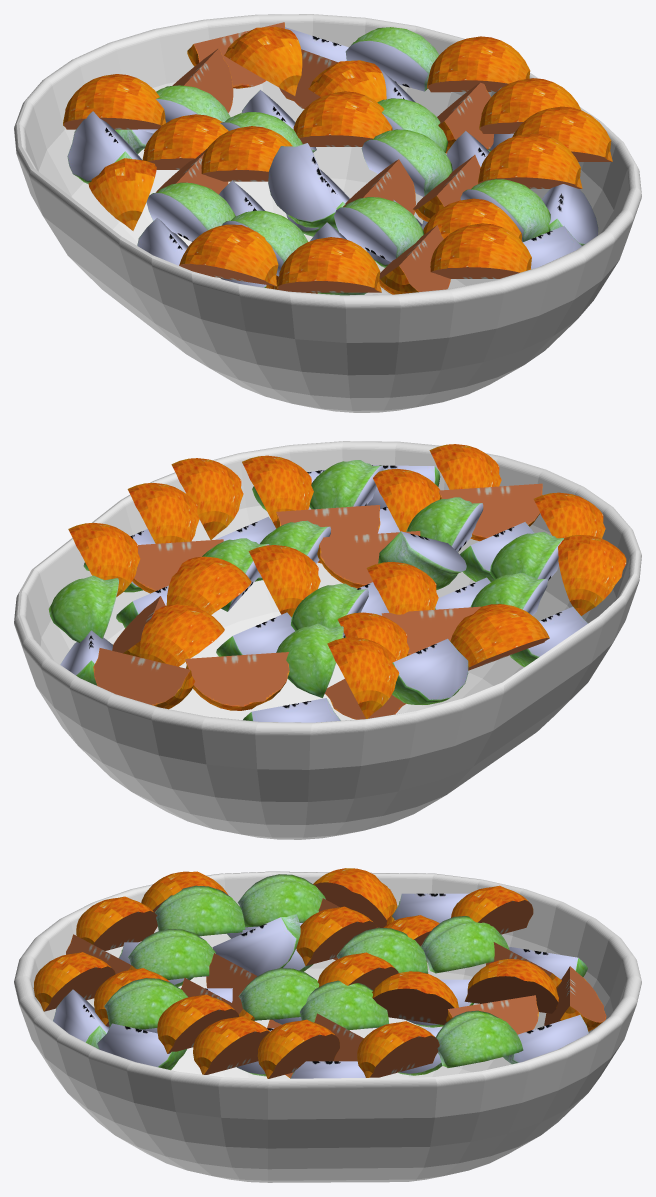
Rendered from Salad.fbx.
3 renders of one model, top to bottom at view 1: azimuth 30°, elevation 25°; view 2: azimuth 150°, elevation 25°; view 3: azimuth 270°, elevation 25°, orthographic. The views are drawn at different scales.
Parts seen in each view (by area): view 1: Plate, ShareOrange, ShareApple.025; view 2: Plate, ShareOrange, ShareApple.025; view 3: Plate, ShareOrange, ShareApple.025.
Part boxes in pixels (x1=…): Plate: x1=14, y1=14, x2=641, y2=412; ShareOrange: x1=63, y1=22, x2=612, y2=294; ShareApple.025: x1=67, y1=27, x2=598, y2=295; Plate: x1=14, y1=441, x2=641, y2=839; ShareOrange: x1=68, y1=444, x2=626, y2=719; ShareApple.025: x1=48, y1=460, x2=587, y2=722; Plate: x1=14, y1=871, x2=641, y2=1182; ShareOrange: x1=33, y1=868, x2=606, y2=1078; ShareApple.025: x1=53, y1=874, x2=588, y2=1078.
Bounding box in the file's own units: 0.6025 × 0.7598 × 0.2954.
2 materials, 2 textured.
